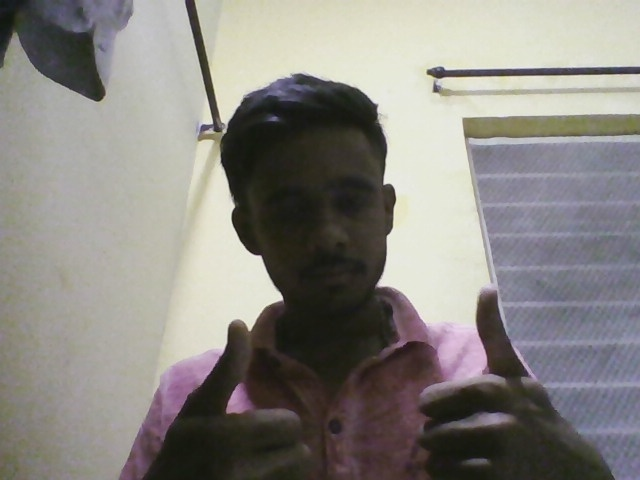thankyou: (151, 281, 591, 480)
